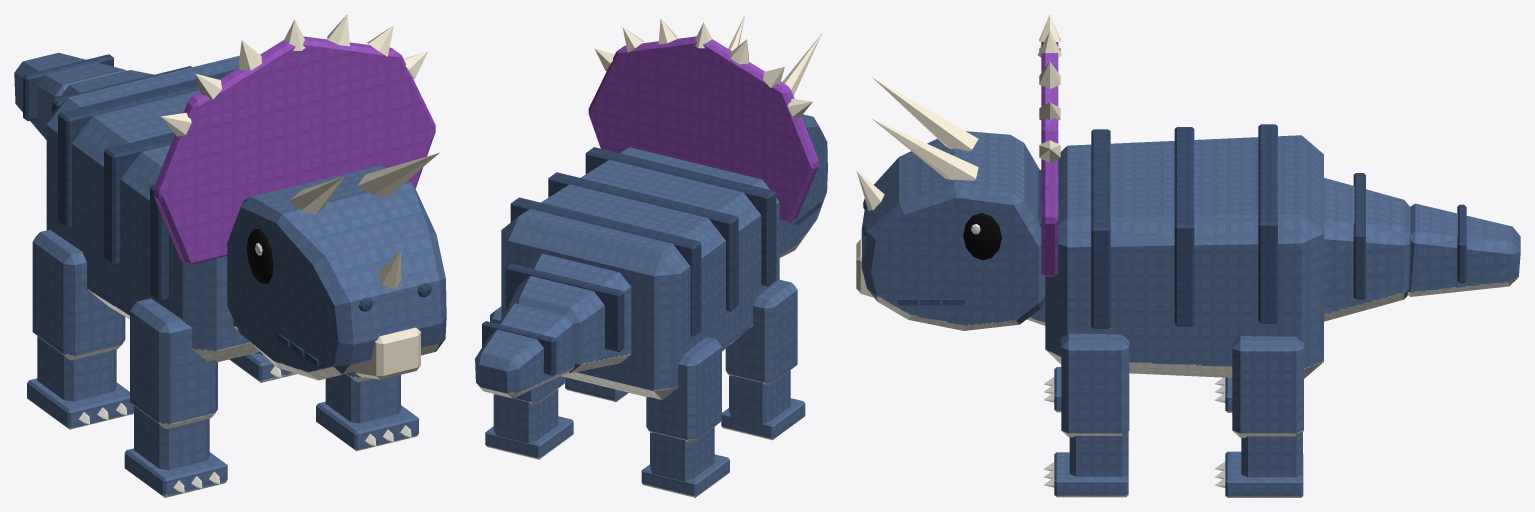
File: 11_Triceratops.glb
The picture shows the model from 3 angles, left to right: view 1: azimuth 30°, elevation 25°; view 2: azimuth 150°, elevation 25°; view 3: azimuth 270°, elevation 25°; orthographic projection. The views are drawn at different scales.
Parts seen in each view (by area): view 1: 11_Triceratops; view 2: 11_Triceratops; view 3: 11_Triceratops.
Boxes of the visible parts, x1,y1,x2,y2 form: 11_Triceratops: [14, 14, 446, 497]; 11_Triceratops: [475, 15, 827, 497]; 11_Triceratops: [856, 14, 1520, 497].
Bounding box in the file's own units: 4.33 × 6.73 × 9.87.
Materials: 1 (1 with a texture image).
